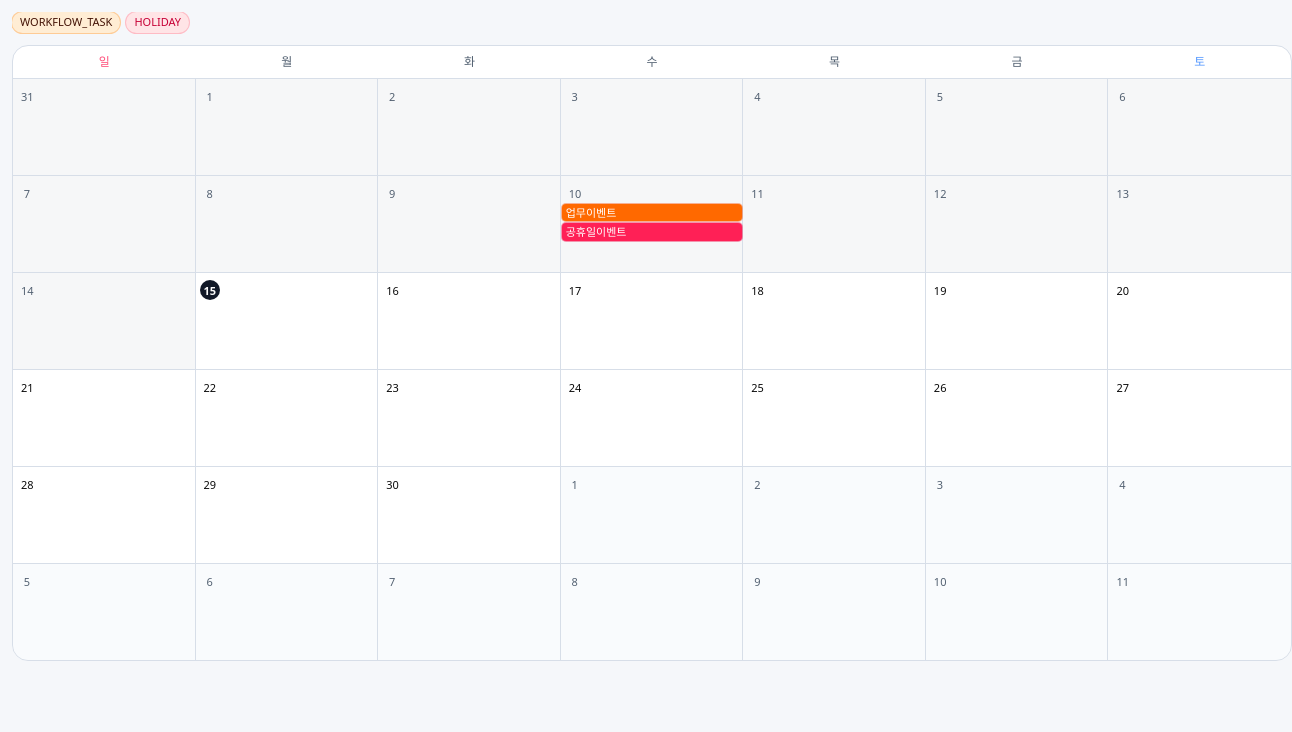
Test: CalendarMonth — 범례 필터(D12) › kind 토글로 해당 막대 숨김
Expected: the text "업무이벤트" is shown, [562,204,742,221]
What coordinates should you click on to do the following:
click the button "WORKFLOW_TASK"
I would click on:
 (66, 22)
Its box is [12,12,120,32].
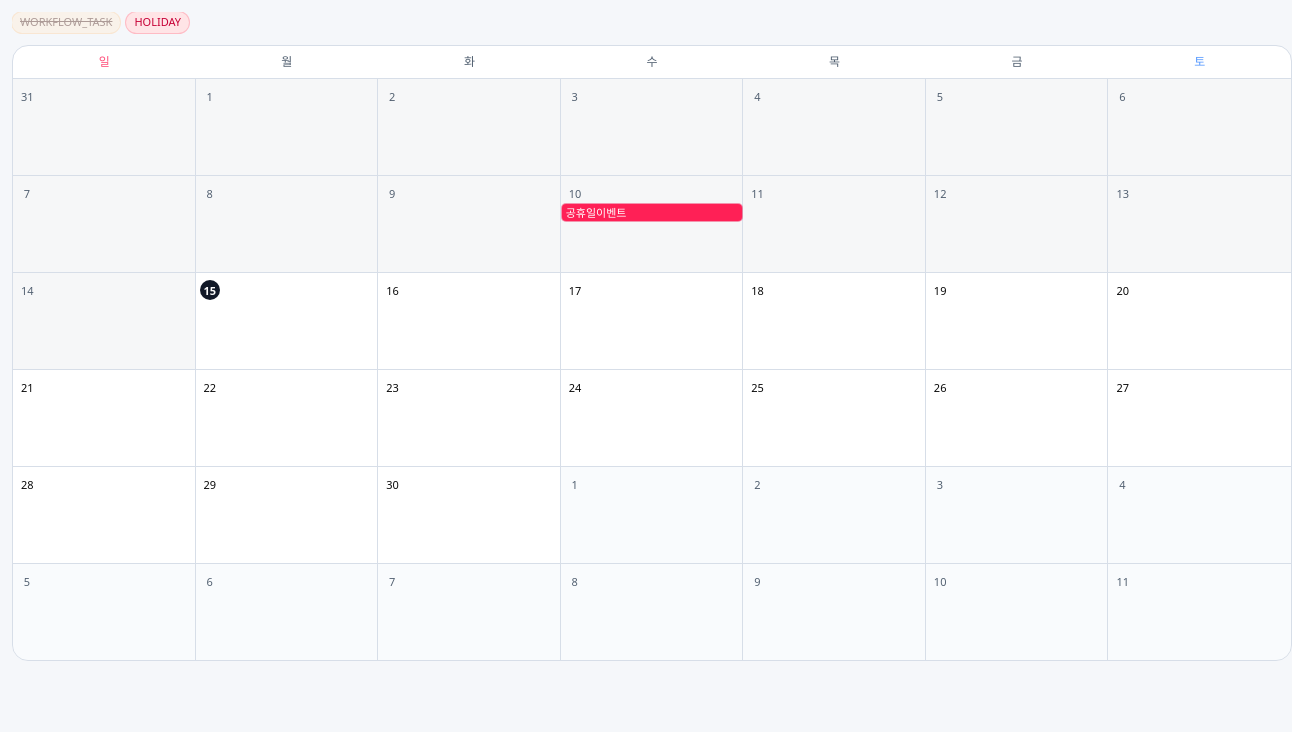
Expected: the text "공휴일이벤트" is shown, [562,204,742,221]
Now the text "업무이벤트" is gone
